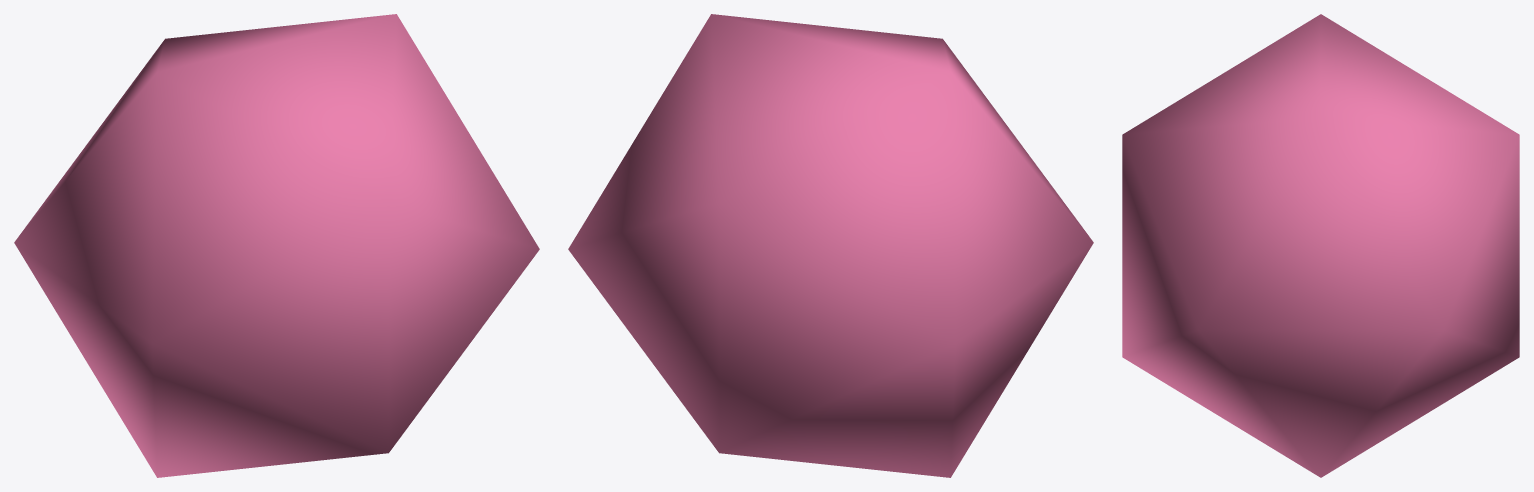
File: small.glb
The picture shows the model from 3 angles, left to right: view 1: azimuth 30°, elevation 25°; view 2: azimuth 150°, elevation 25°; view 3: azimuth 270°, elevation 25°; orthographic projection. The views are drawn at different scales.
Visible parts, largest first — view 1: tiny_icosa; view 2: tiny_icosa; view 3: tiny_icosa.
Part boxes in pixels (x1,y1,x2,y2): tiny_icosa: [14, 14, 539, 477]; tiny_icosa: [568, 14, 1093, 477]; tiny_icosa: [1122, 14, 1519, 477].
Size of the model in its own units: 1.7 by 1.7 by 1.7.
